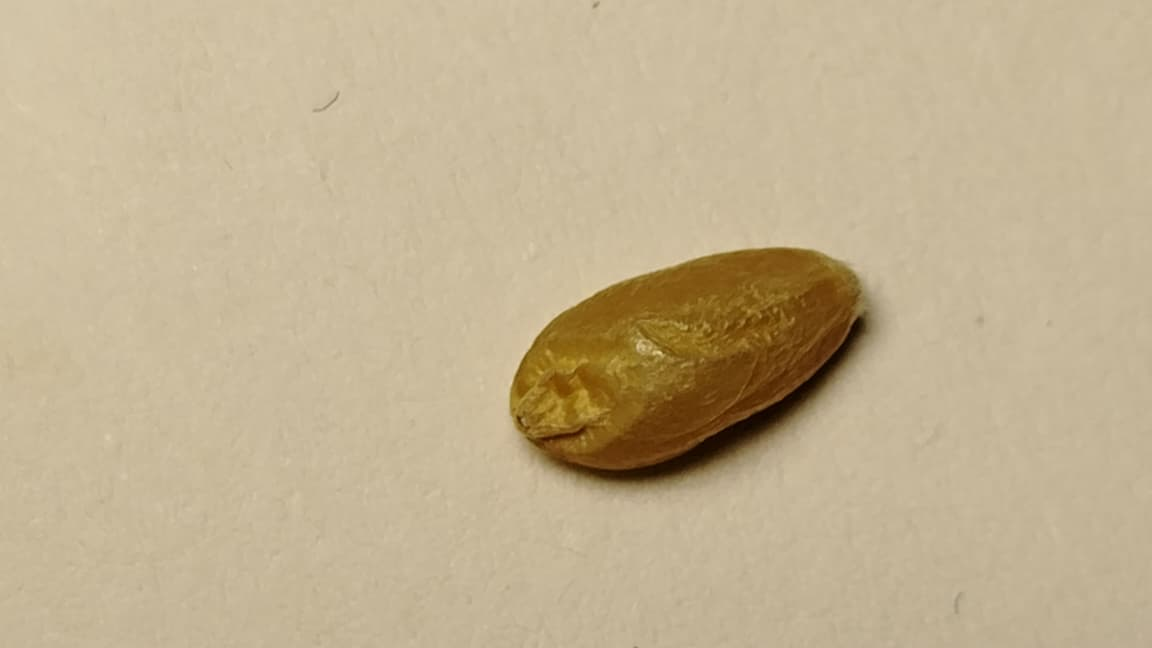healthy: (510, 247, 863, 470)
